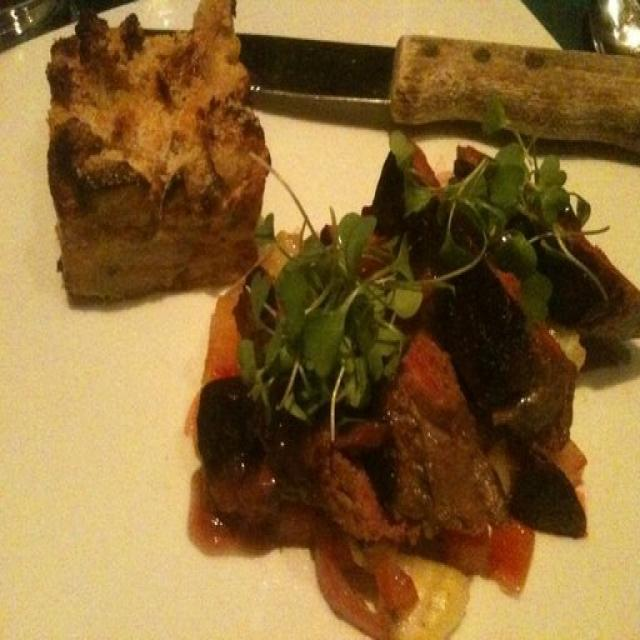Steak: (173, 227, 612, 565)
